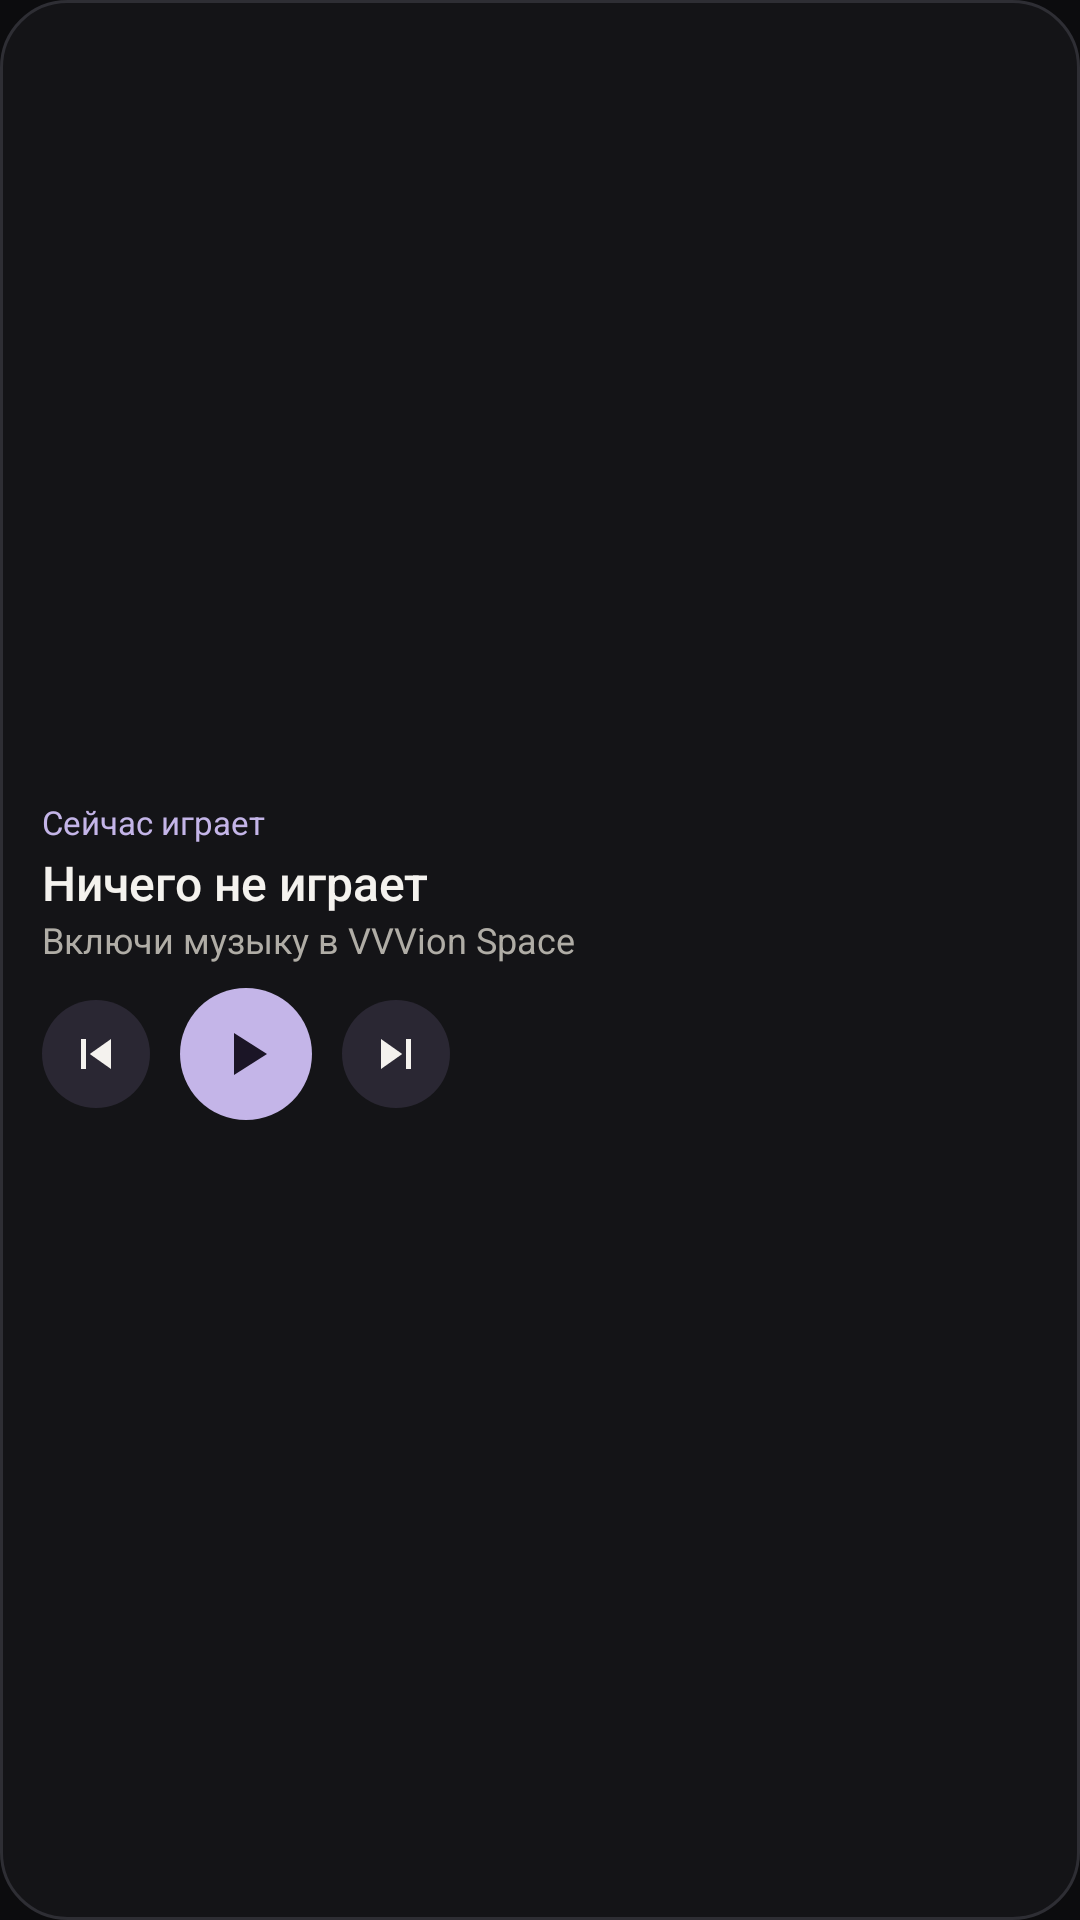

Named icons in this screenshot (1080 x 1920) and their centers, [x,y]:
next: [396,1054]
play: [246,1054]
prev: [96,1054]
